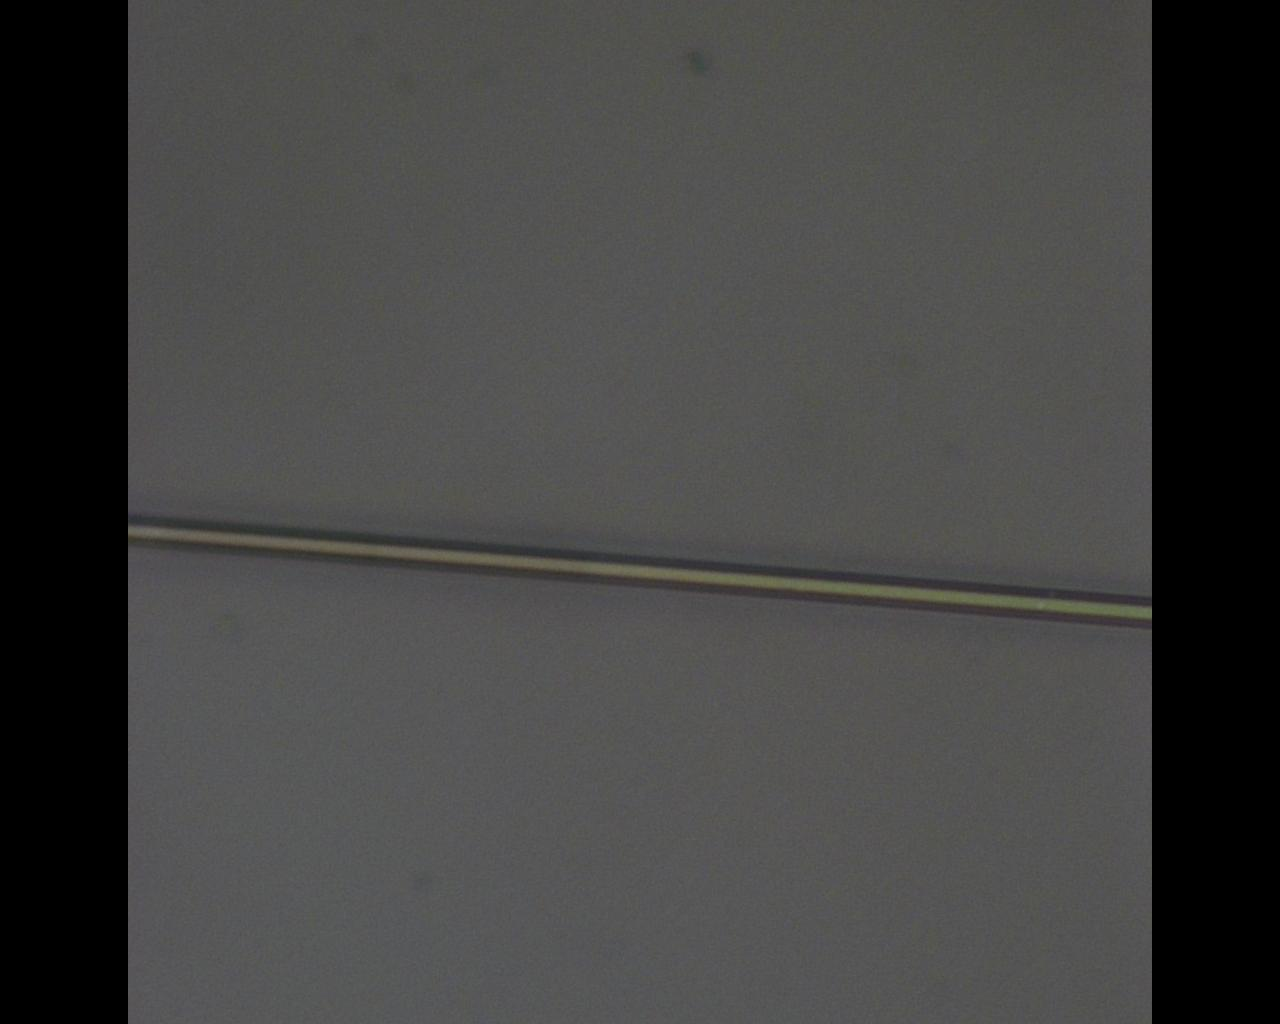fiber: (127, 515, 1151, 633)
